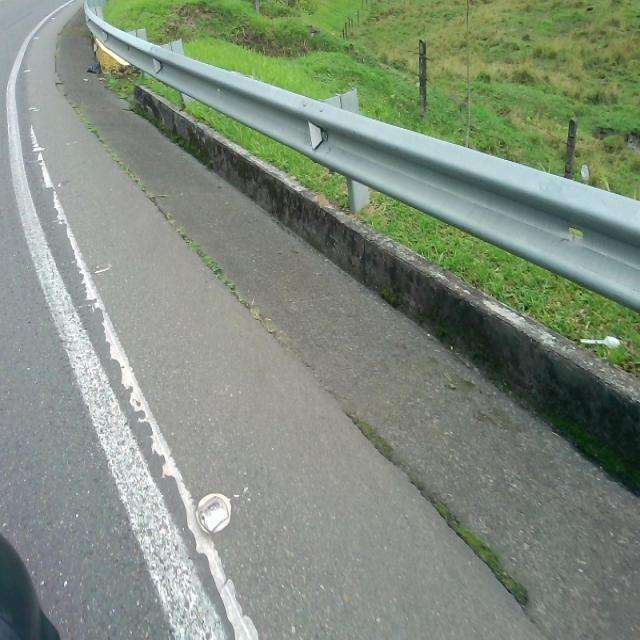DITCH: (46, 2, 638, 637), (1, 153, 638, 638)
